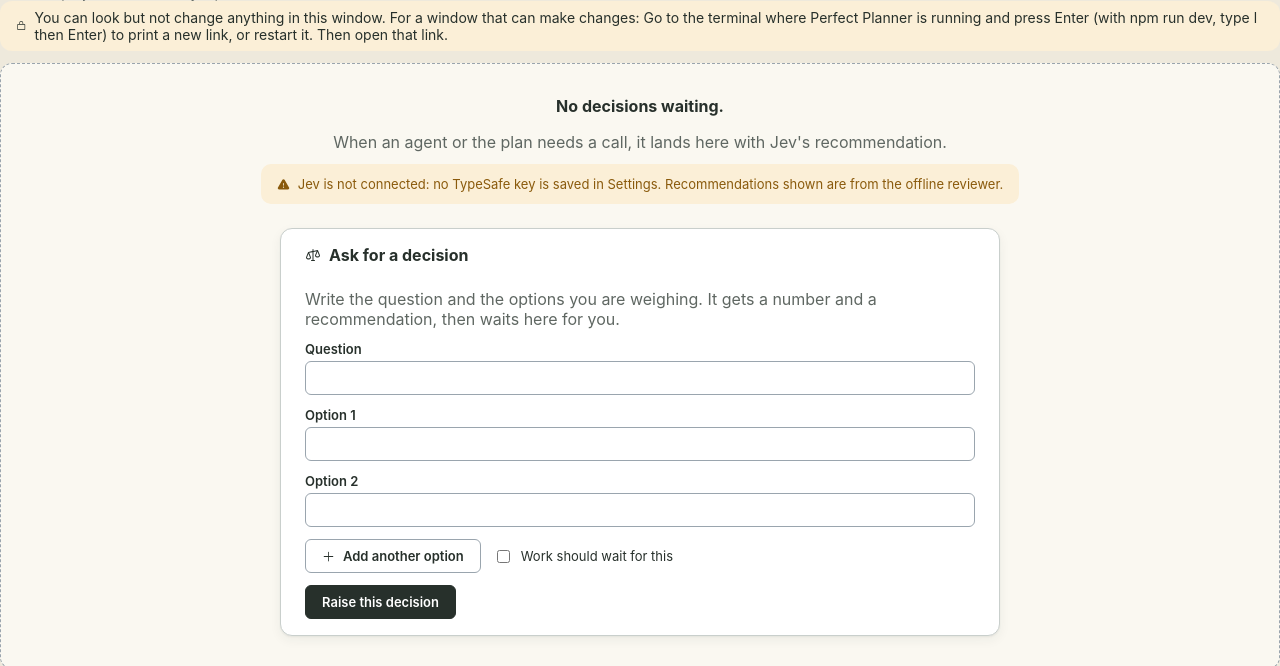
DecisionsScreen › asking for a decision from the empty state posts the question and options
Expected: the text "No decisions waiting." is shown, [556, 96, 724, 116]
Type "Ship on Fridays?" into the field labelled "Question".
click(640, 378); type("Ship on Fridays?")  # box [305, 361, 975, 395]
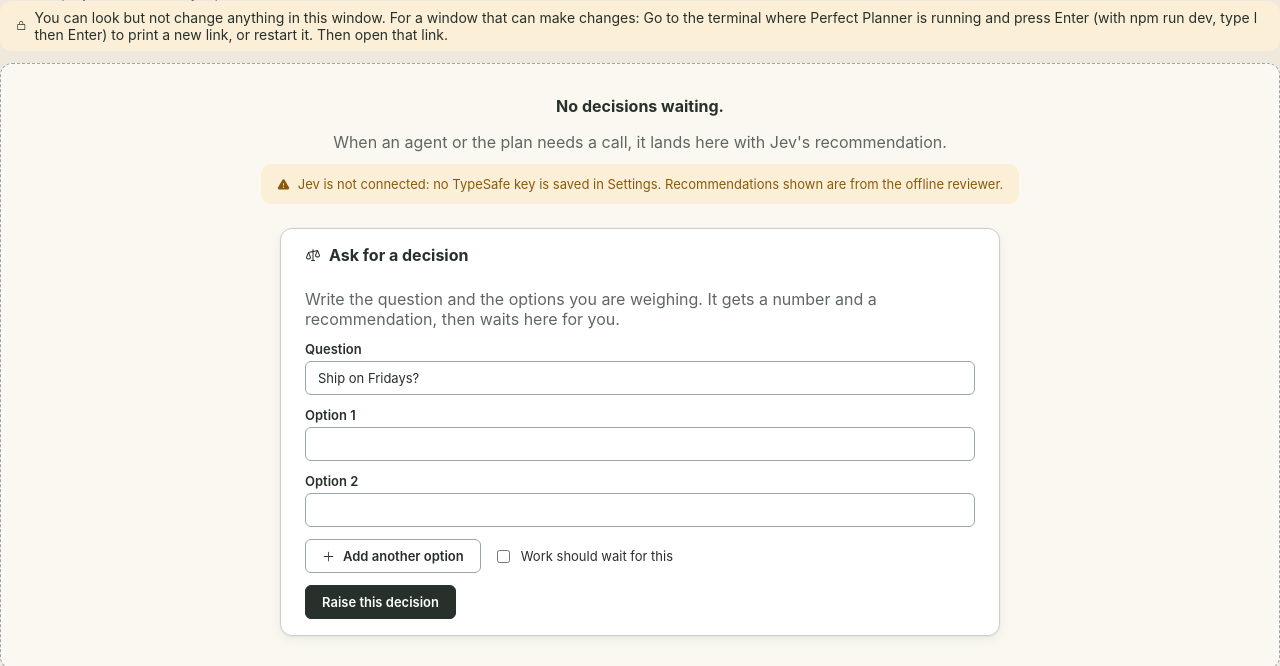
Type "Yes" into the field labelled "Option 1".
click(640, 444); type("Yes")  # box [305, 427, 975, 461]
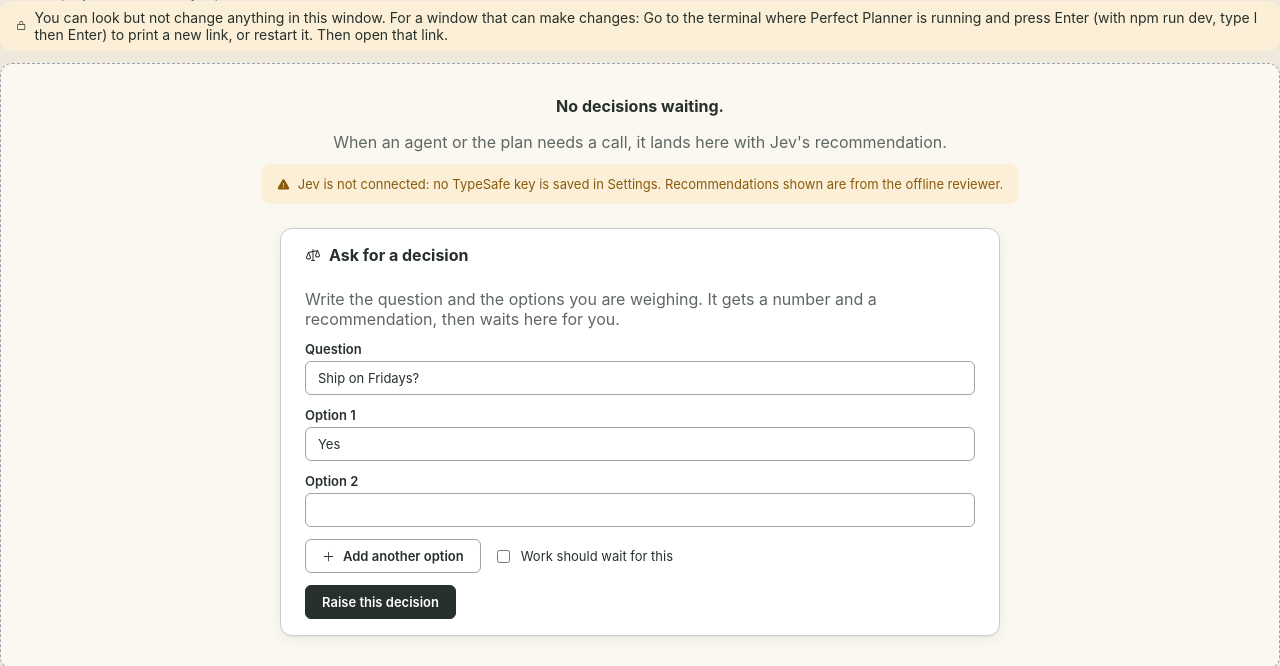
Type "No" into the field labelled "Option 2".
click(640, 510); type("No")  # box [305, 493, 975, 527]
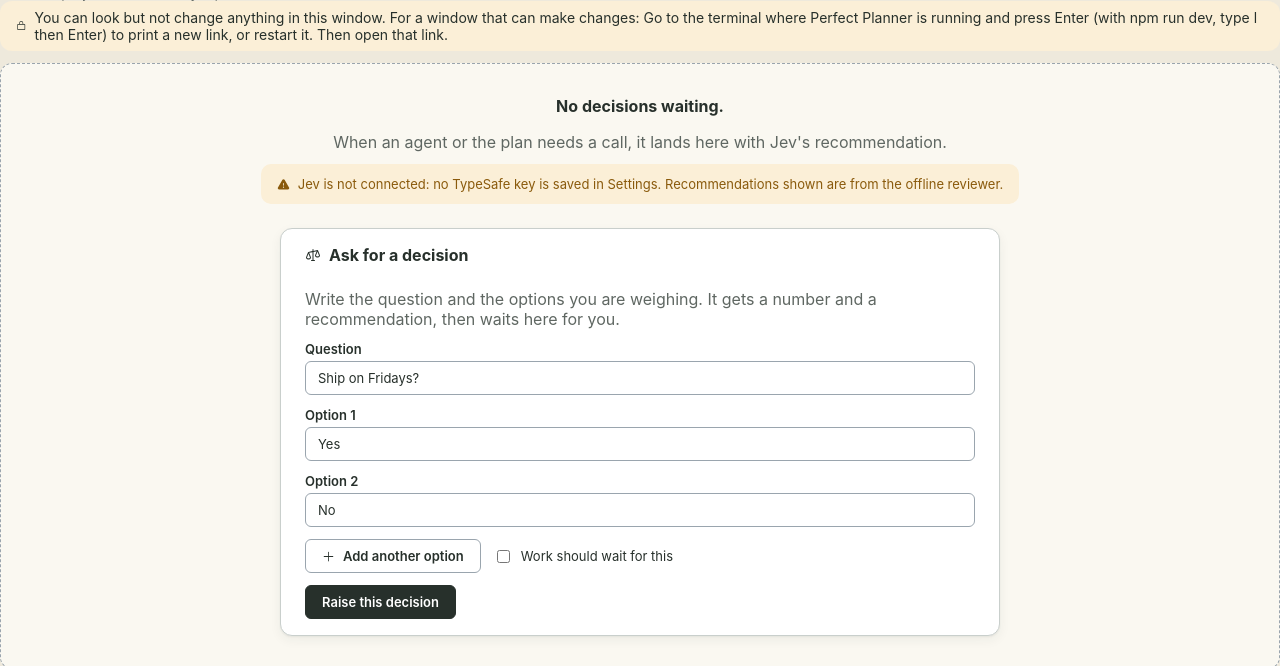
Click the button "Add another option".
click(393, 556)  # box [305, 539, 481, 573]
(page scrolled)
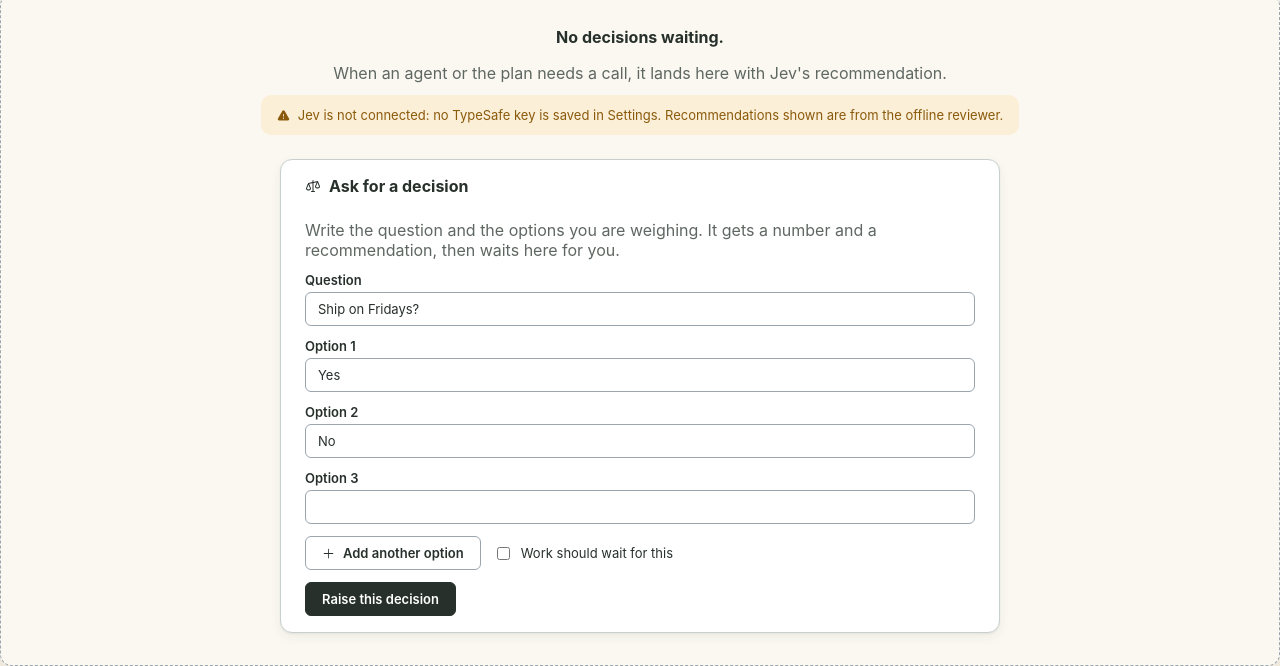
Now the field labelled "Option 3" is shown, box [305, 490, 975, 524]
Click the button "Raise this decision".
click(380, 599)  # box [305, 582, 456, 616]
(page scrolled)
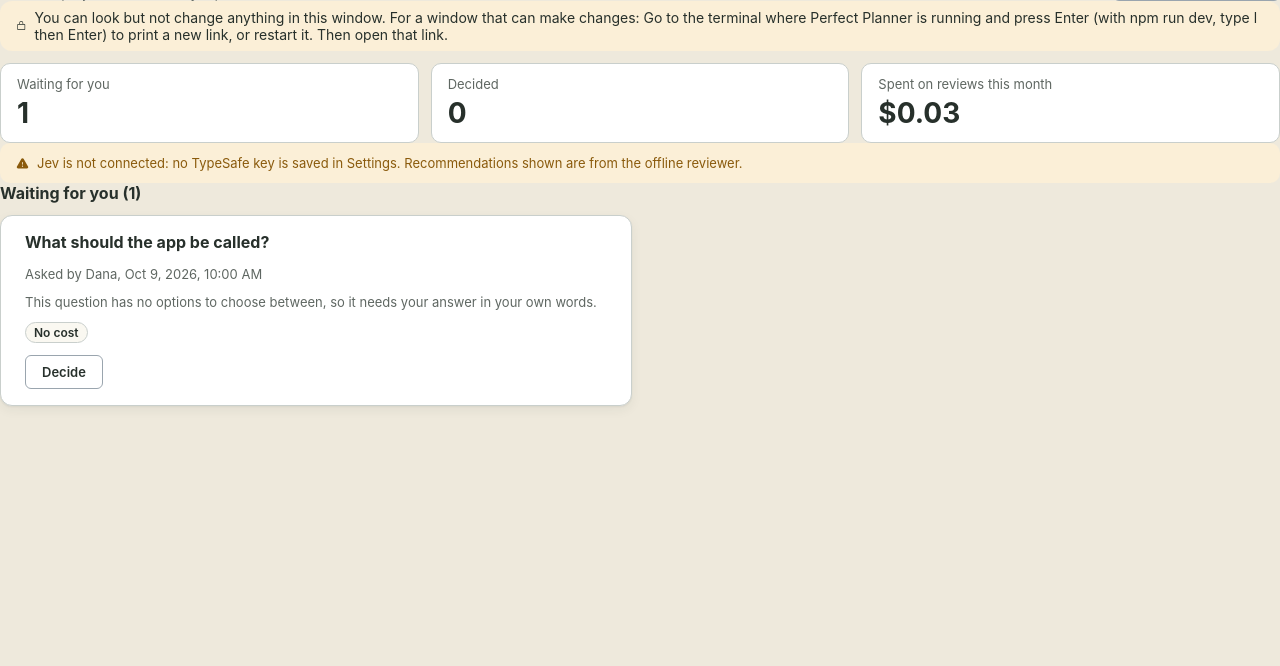
Now the heading "What should the app be called?" is shown, box [25, 232, 269, 252]
